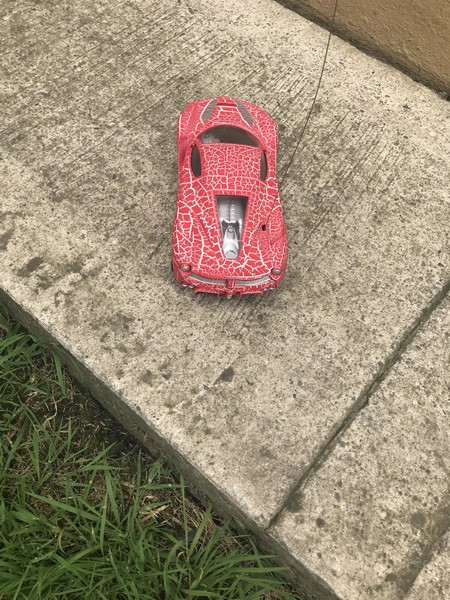RC: (167, 94, 288, 305)
